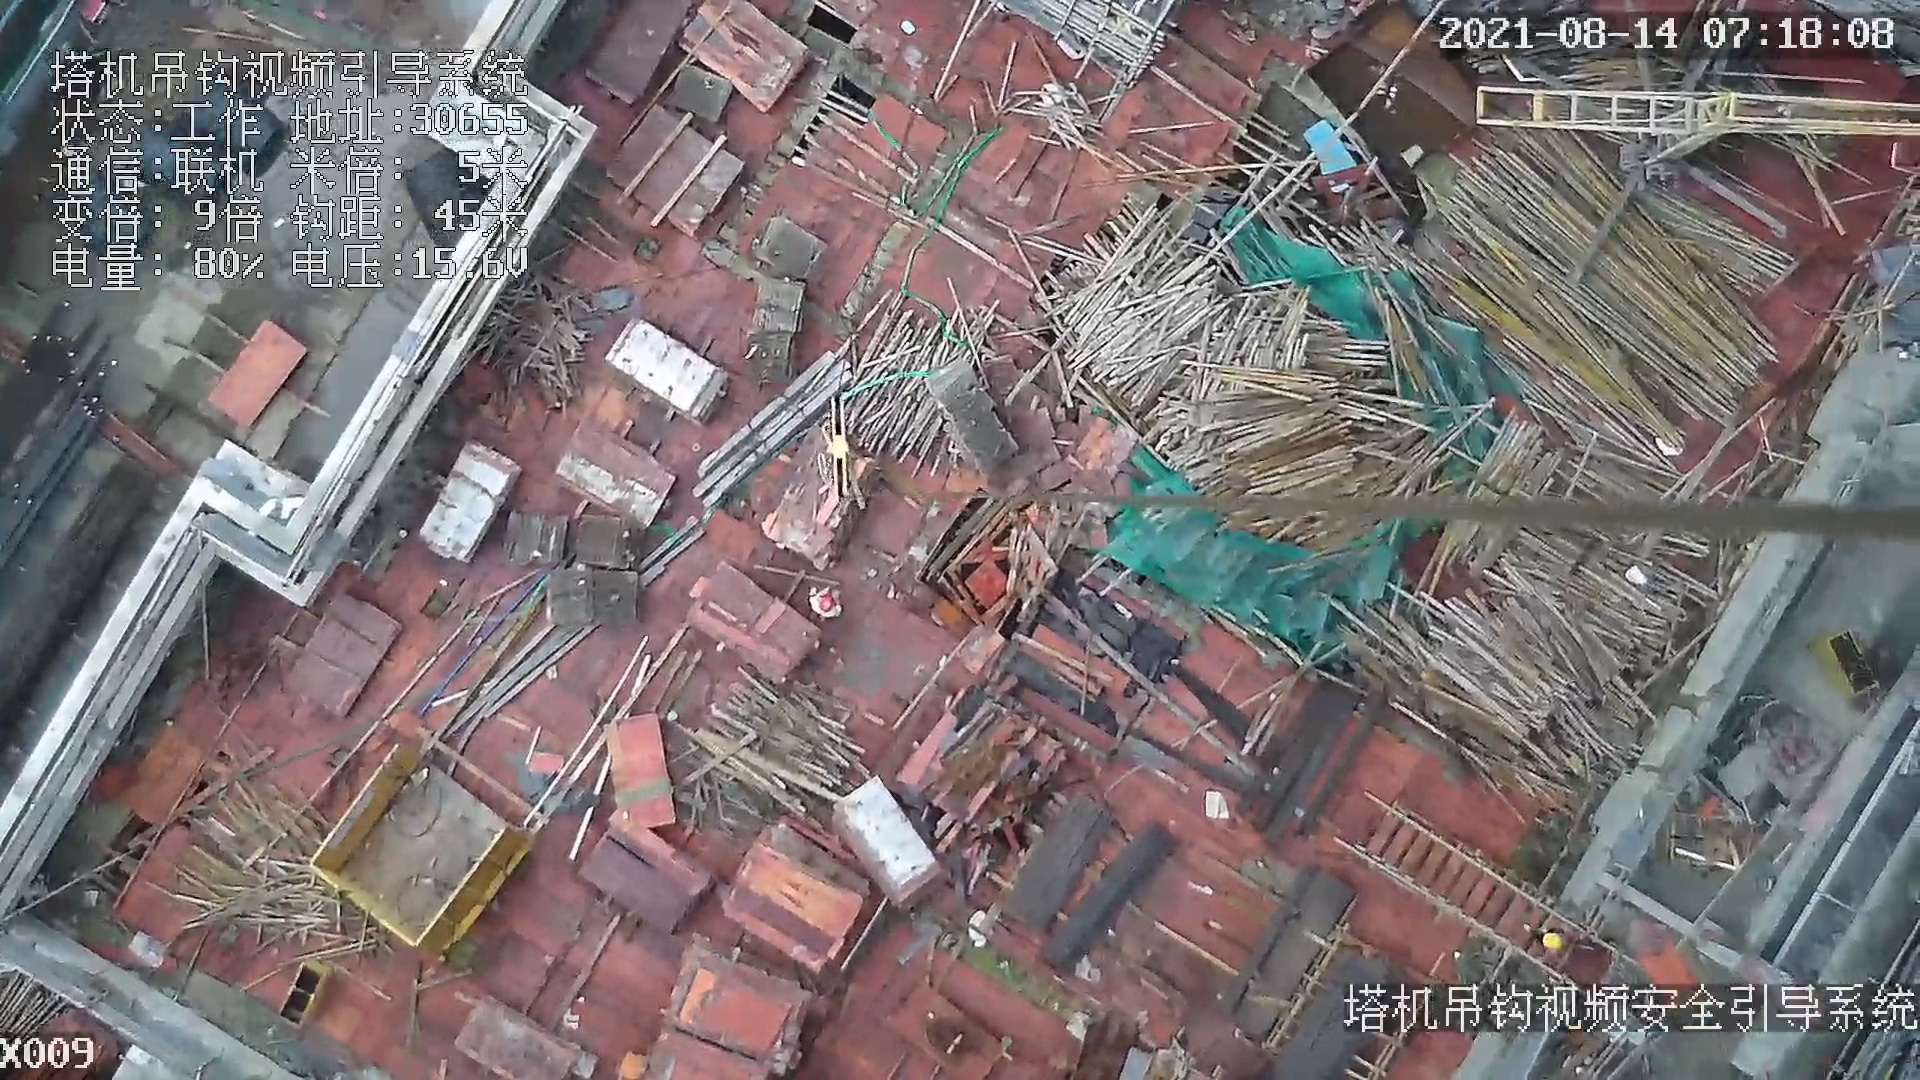helmet: (815, 595, 833, 615)
hook: (814, 395, 863, 508)
person: (799, 587, 837, 622)
